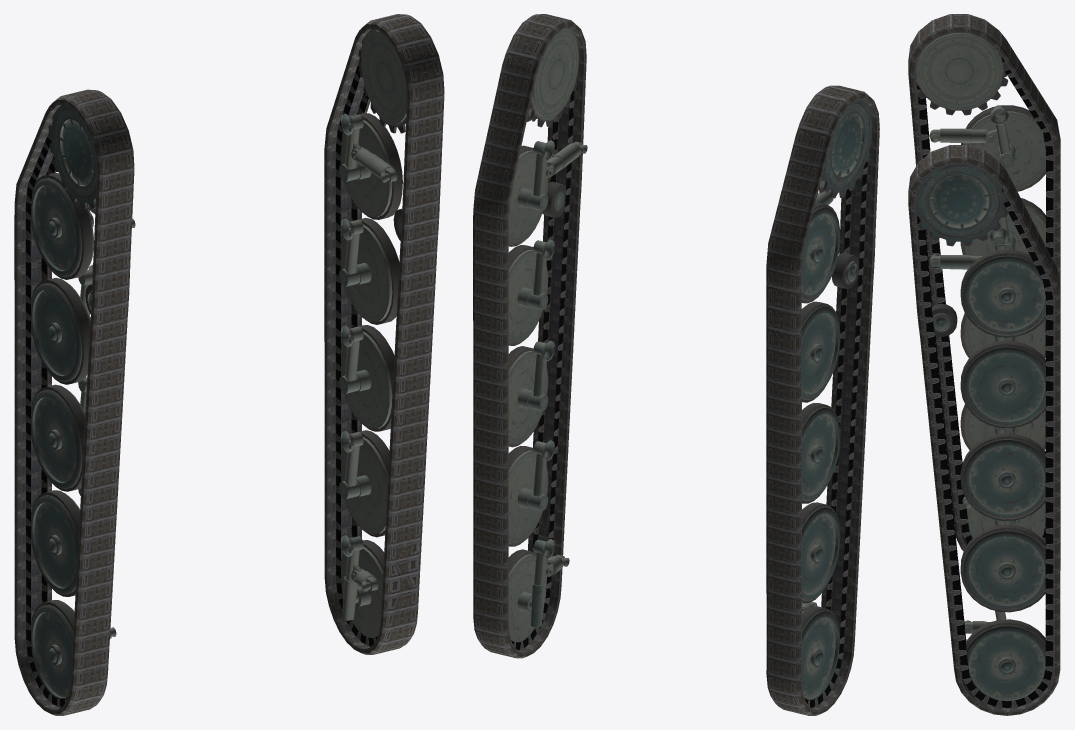
The model's file is Chassis.glb.
3 renders of one model, left to right at view 1: azimuth 30°, elevation 25°; view 2: azimuth 150°, elevation 25°; view 3: azimuth 270°, elevation 25°, orthographic. The views are drawn at different scales.
Parts seen in each view (by area): view 1: set_1_group_0, set_0_group_0, set_3_group_0, set_2_group_0; view 2: set_0_group_0, set_1_group_0, set_3_group_0, set_2_group_0; view 3: set_3_group_0, set_1_group_0, set_2_group_0, set_0_group_0.
Boxes of the visible parts, <box> form: set_1_group_0: <box>324,14,444,654</box>; set_0_group_0: <box>14,89,134,715</box>; set_3_group_0: <box>339,29,406,637</box>; set_2_group_0: <box>30,105,135,698</box>; set_0_group_0: <box>766,85,879,715</box>; set_1_group_0: <box>473,14,586,658</box>; set_3_group_0: <box>508,28,587,642</box>; set_2_group_0: <box>801,100,872,699</box>; set_3_group_0: <box>915,164,1045,701</box>; set_1_group_0: <box>908,145,1060,715</box>; set_2_group_0: <box>915,33,1045,538</box>; set_0_group_0: <box>908,14,1060,551</box>.
Bounding box in the file's own units: 2.39 × 4.27 × 1.06.
4 materials, 4 textured.
